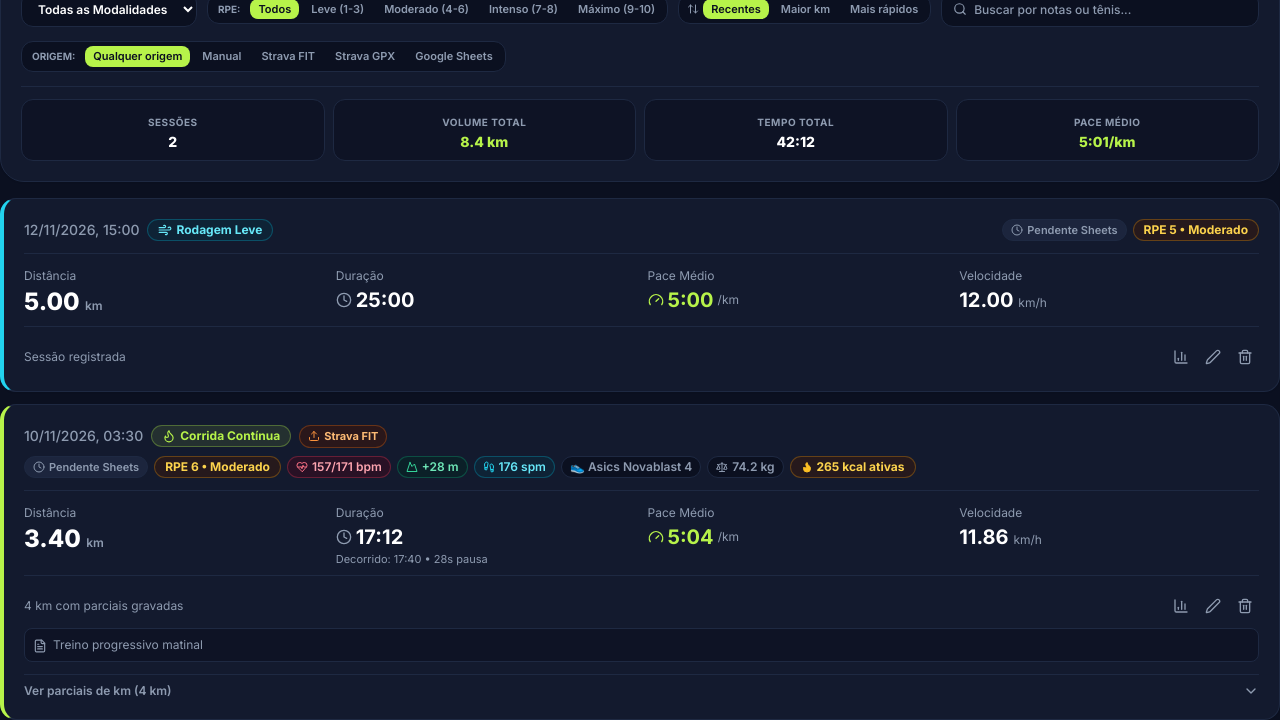
Test: Fase 8 — Componentes de Análise e Visualização de Splits › 5. TrainingCard expande parciais ricas mantendo rótulos 'Km X:' únicos e TrainingList abre o modal de detalhes
Later steps or results of the test are not shown.
(page scrolled)
Click the button "Ver parciais de km (4 km)" at (81,690), box [24,683,1259,699]
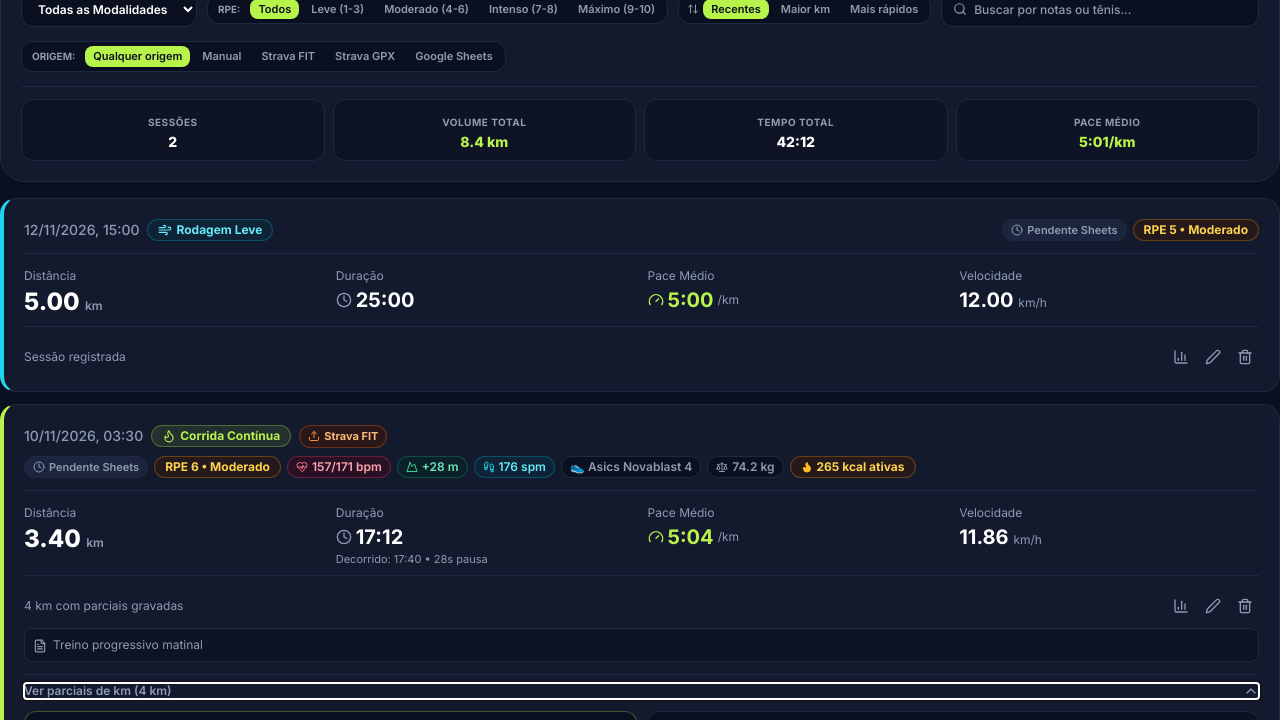
Abre modal de detalhes a partir do botão no card
Click the button named "Ver detalhes do treino" in the row of "4 km com parciais gravadas" at (1181,606), box [1167,592,1195,620]
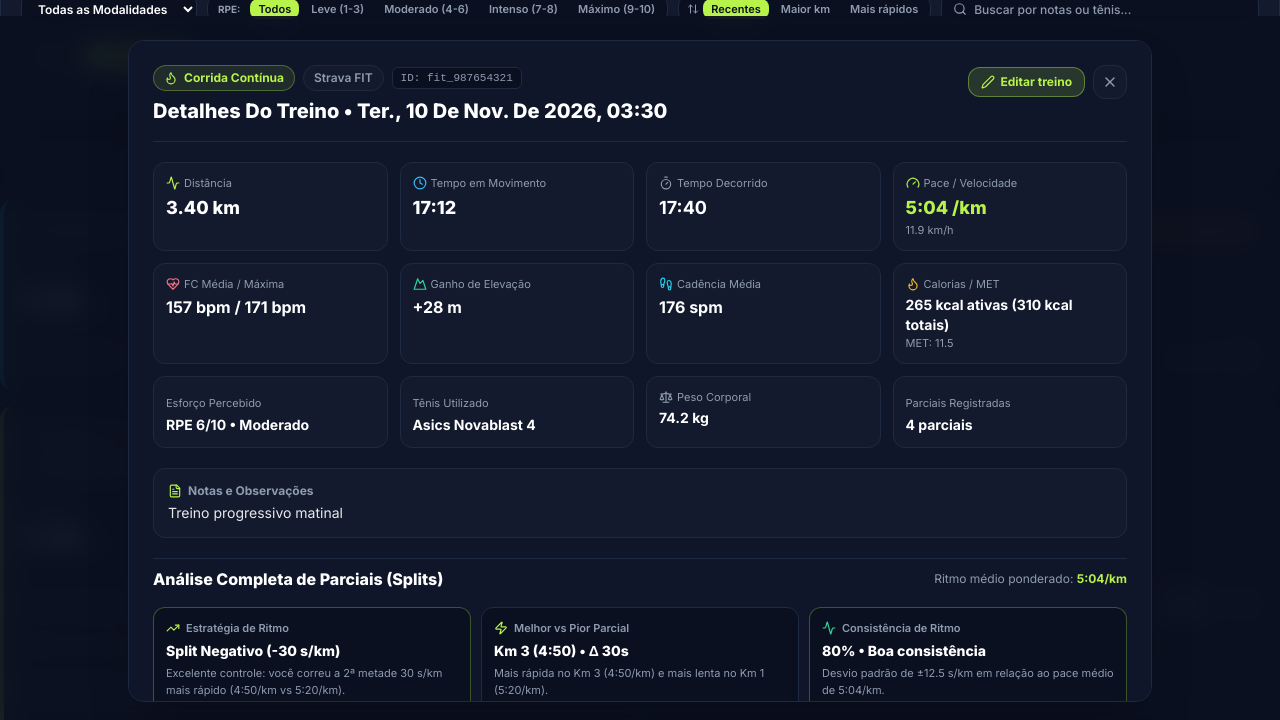
expect the dialog with test id "training-detail-modal" is shown: met
Editar dentro do modal fecha o modal e chama onEdit da lista
Click the button with test id "training-detail-edit-btn" at (1026,82), box [968,67,1085,97]
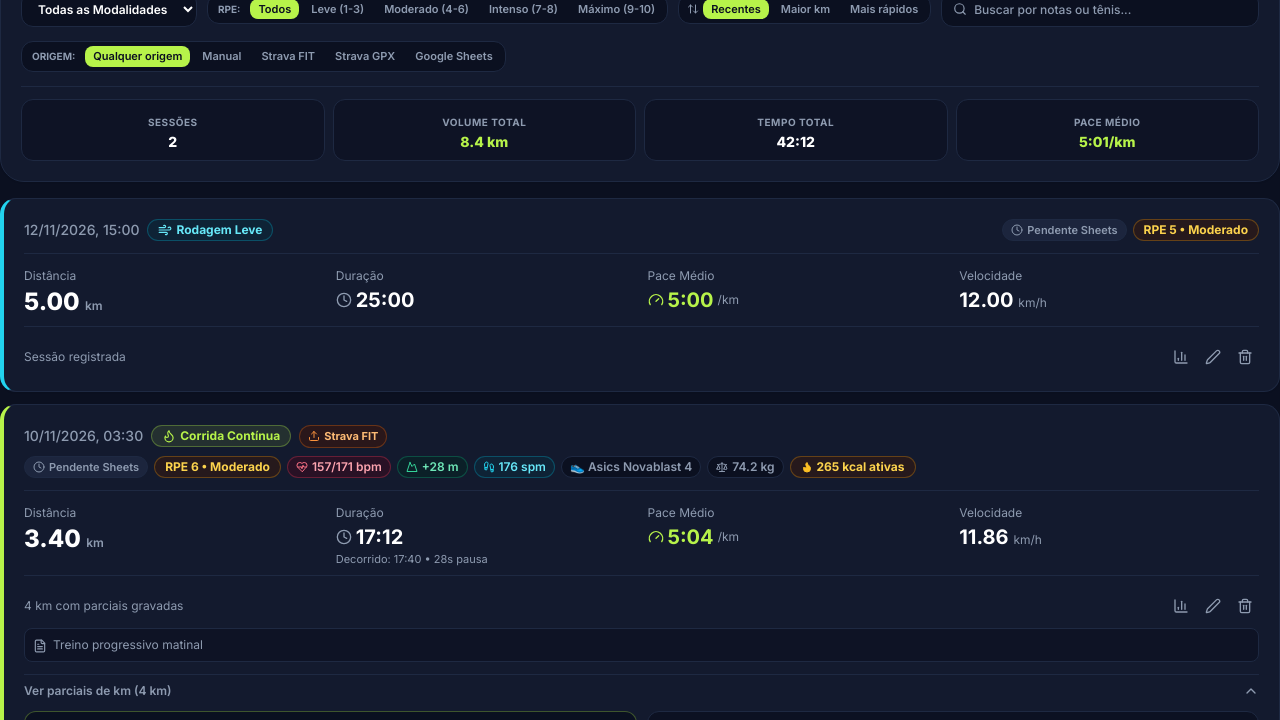
expect the dialog with test id "training-detail-modal" is gone: met
